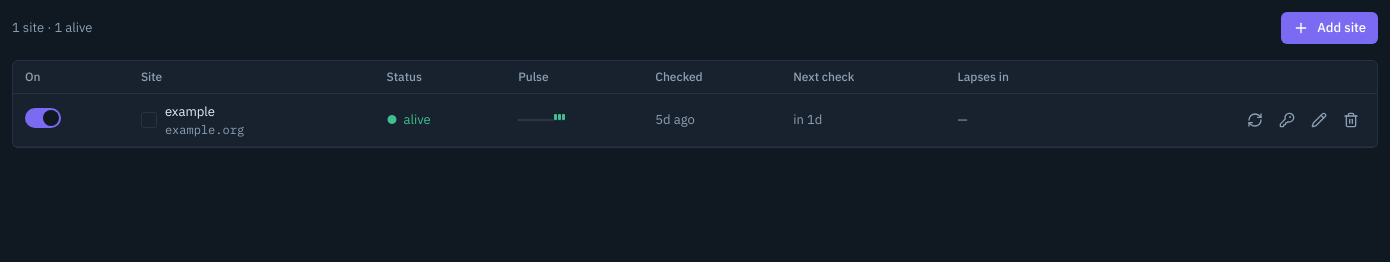
it: Sites › says a site has no session yet
This screenshot has width=1390, height=262.
Expected: the text "example" is shown, [165, 103, 215, 120]
What coordinates should you click on to do the following:
click the button with aria-label "Show details for example"
I would click on:
 (192, 120)
Its box is [141, 102, 244, 138].
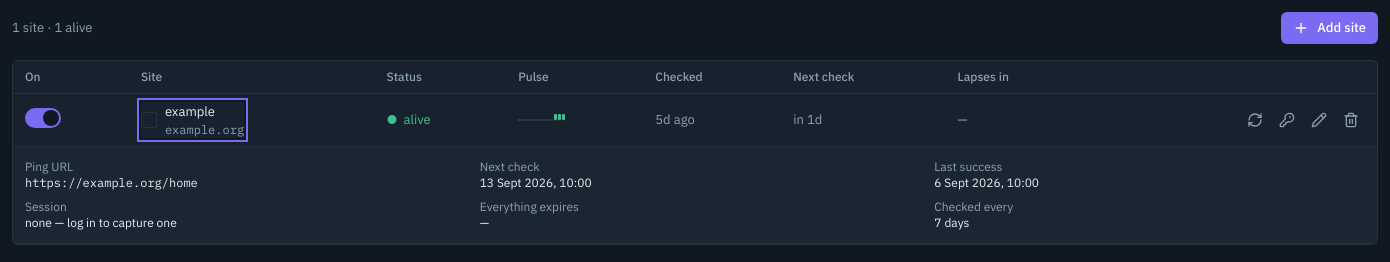
Expected: the text "none — log in to capture one" is shown, [25, 215, 177, 230]
